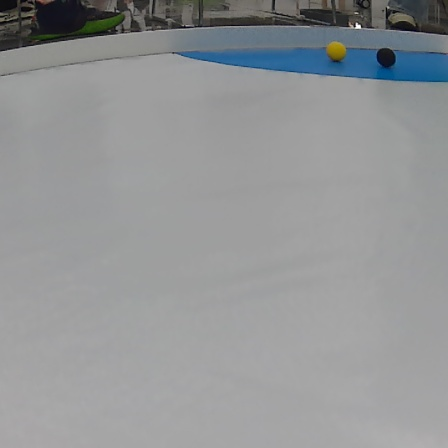black: (378, 47, 395, 67)
blue_base: (164, 40, 446, 85)
yellow: (328, 41, 347, 61)
